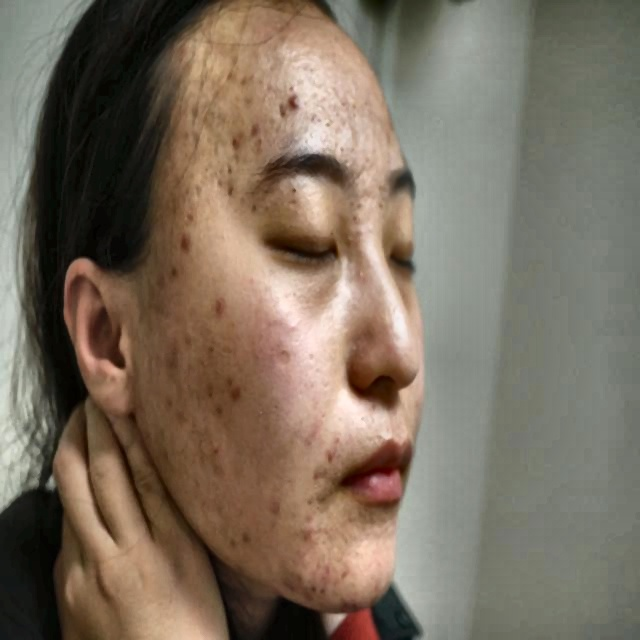papule: (247, 104, 270, 156), (218, 125, 250, 159), (204, 291, 232, 328), (284, 556, 308, 598), (174, 221, 198, 258), (234, 514, 258, 548), (223, 380, 246, 415), (190, 110, 209, 149), (304, 566, 325, 600), (324, 558, 350, 583), (165, 247, 184, 281), (298, 511, 324, 535), (320, 433, 341, 462), (281, 85, 300, 116), (173, 53, 194, 81), (224, 172, 240, 208), (160, 387, 178, 418), (208, 439, 226, 463), (312, 466, 326, 496), (184, 209, 200, 229), (268, 501, 284, 519)
